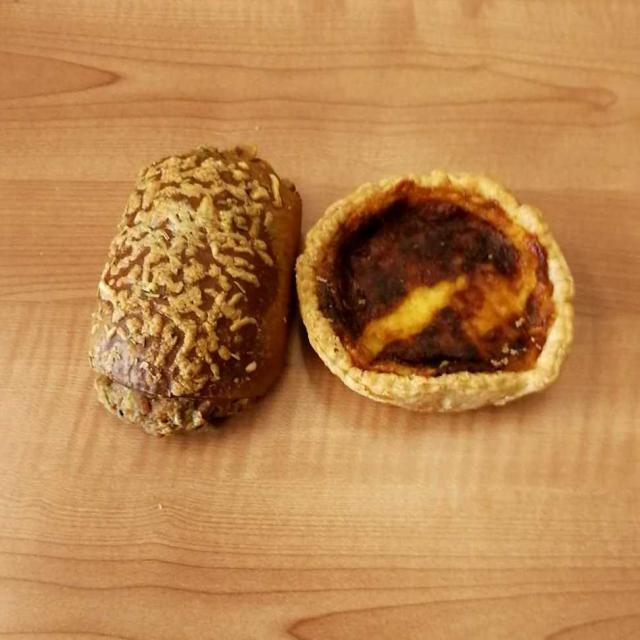bread: (96, 149, 297, 434)
quiche: (274, 157, 561, 413)
